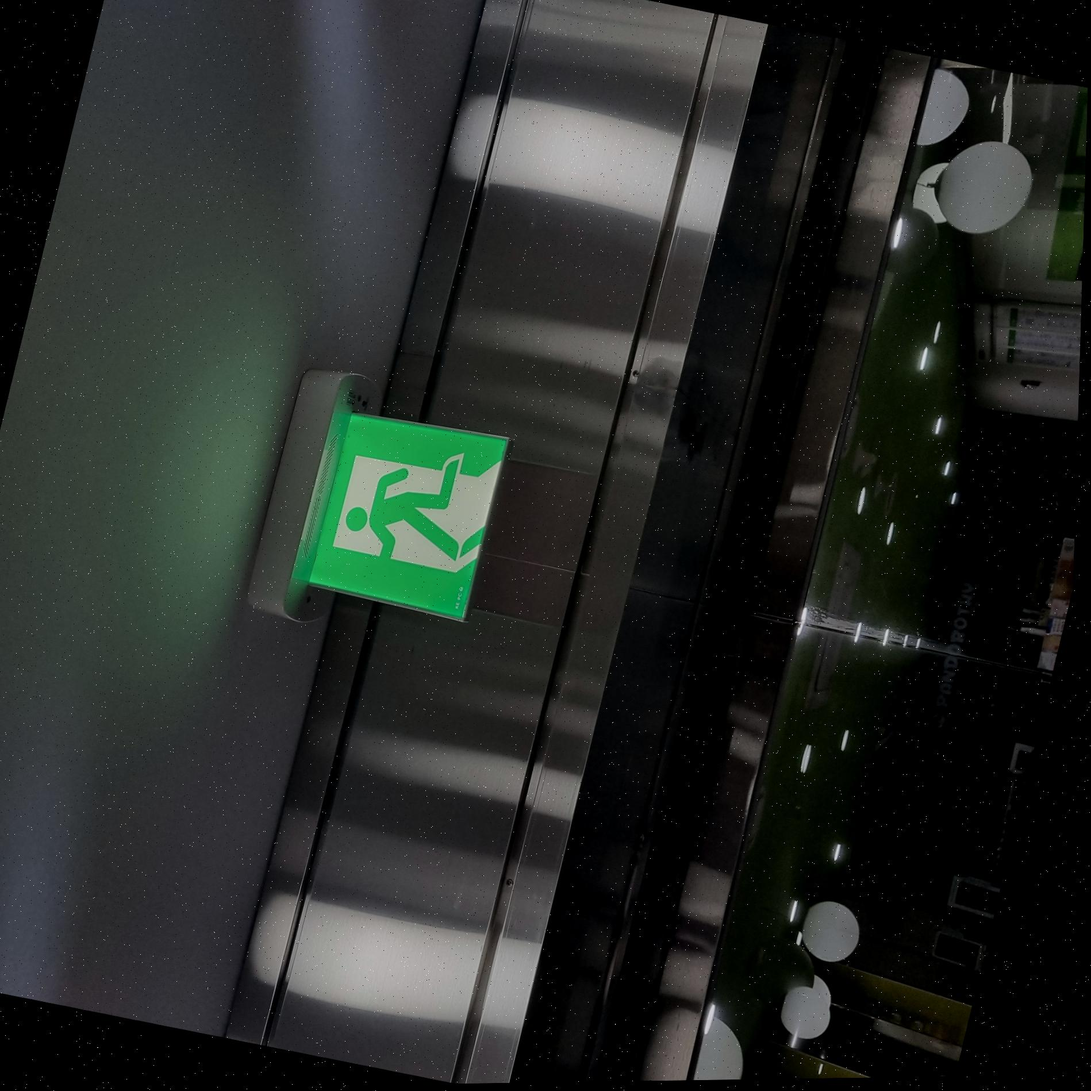emergency_exit: (249, 368, 513, 627), (301, 408, 512, 624)
